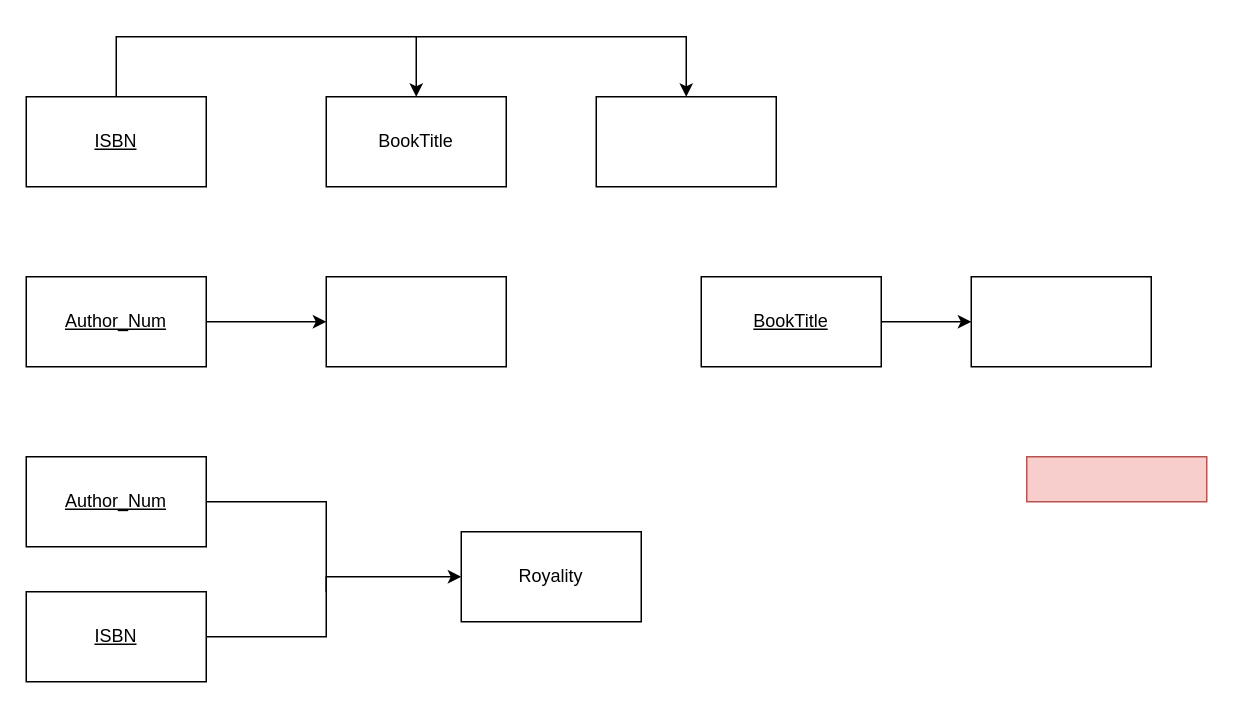
Image size: 1233x708. Some labels were removed from this diagram. Here are the shapes that lost their labels. From the top down, the centre of each, then its label:
At point 685,141: "Edition".
At point 415,321: "LastName".
At point 1060,321: "Publisher".
At point 1116,478: "BuiDinhHieu- A44894".
